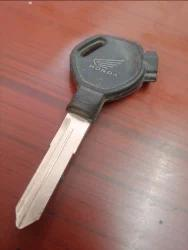key: (11, 31, 165, 229)
